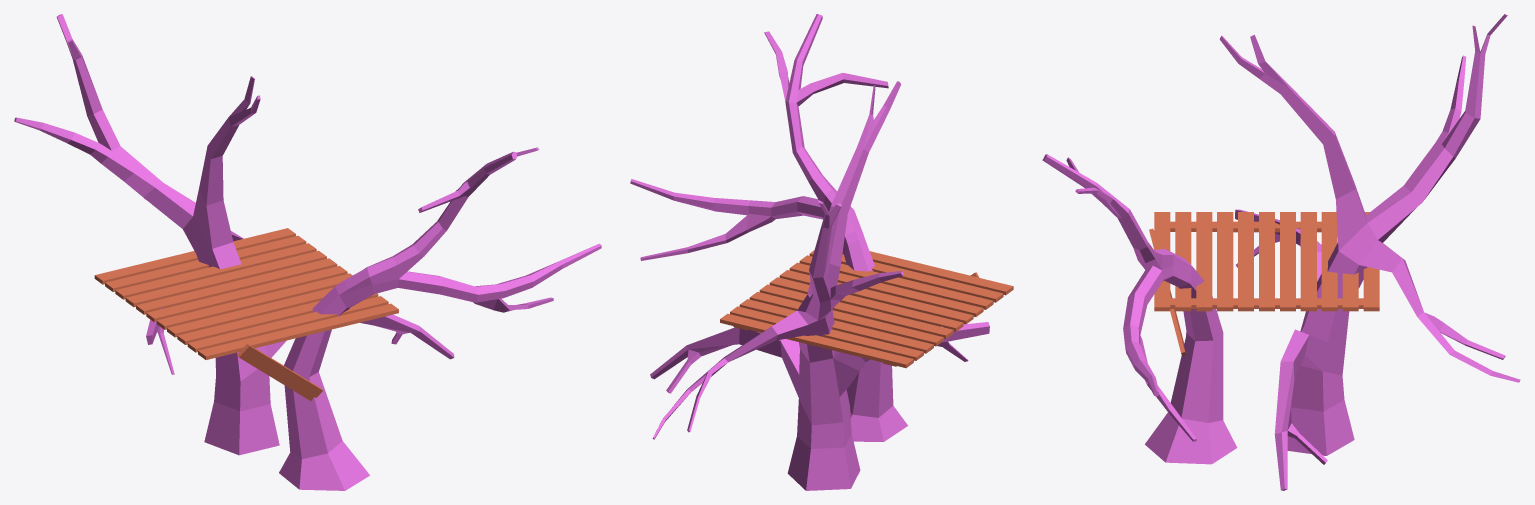
Rendered from TreeFort.glb.
3 views of the same model, side by side, from view 1: azimuth 30°, elevation 25°; view 2: azimuth 150°, elevation 25°; view 3: azimuth 270°, elevation 25° (orthographic). The views are drawn at different scales.
Visible parts, largest first — view 1: Cube, Cylinder.001, Cylinder, Cube.001; view 2: Cylinder.001, Cube, Cylinder; view 3: Cylinder.001, Cube, Cylinder, Cube.003.
Boxes of the visible parts, box(x1,y1,x2,y2) form: Cube: box(94, 228, 398, 359); Cylinder.001: box(14, 14, 454, 455); Cylinder: box(279, 147, 601, 490); Cube.001: box(237, 343, 322, 400); Cylinder.001: box(650, 81, 989, 490); Cube: box(720, 250, 1013, 368); Cylinder: box(630, 14, 907, 441); Cylinder.001: box(1220, 14, 1520, 490); Cube: box(1154, 212, 1379, 311); Cylinder: box(1042, 154, 1237, 464); Cube.003: box(1170, 298, 1363, 308).
Size of the model in its own units: 25.95 by 22.22 by 24.42.
